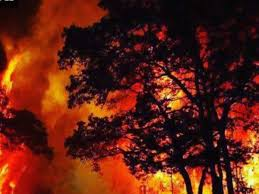fire: (7, 51, 52, 98), (1, 159, 25, 194), (156, 165, 183, 193), (242, 153, 259, 184)
smoke: (7, 7, 49, 39)
